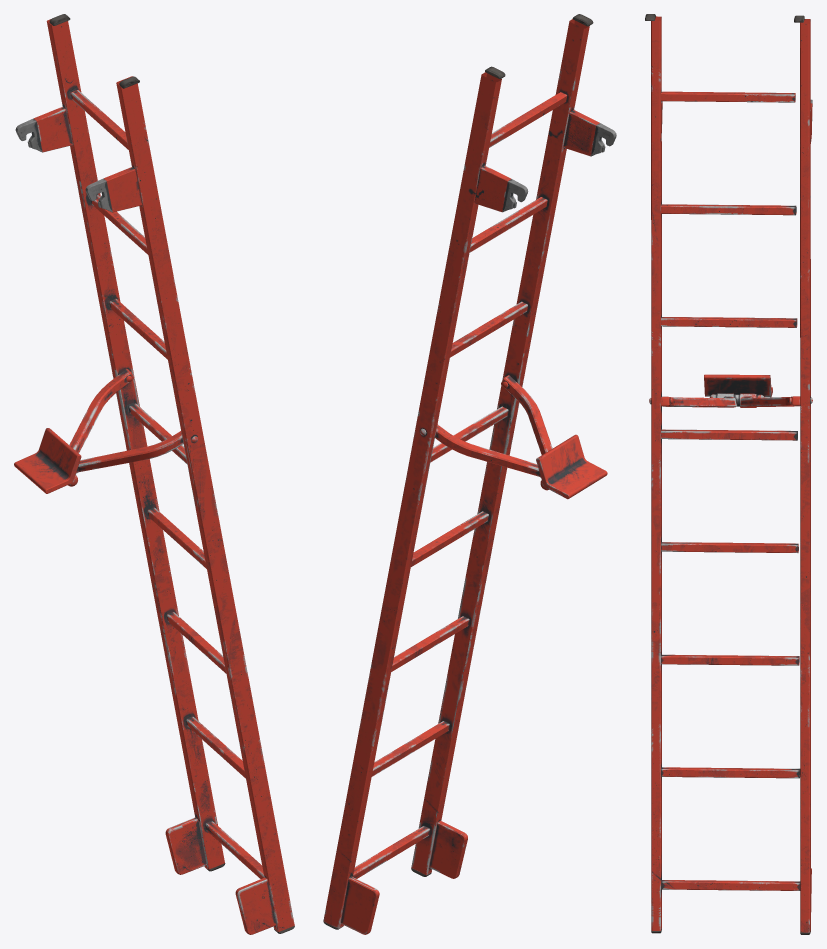
The model's file is xwing-cockpit-ladder.fbx.
3 renders of one model, left to right at view 1: azimuth 30°, elevation 25°; view 2: azimuth 150°, elevation 25°; view 3: azimuth 270°, elevation 25°, orthographic. The views are drawn at different scales.
Parts seen in each view (by area): view 1: beam-main.001_Baked, steps.001_Baked, suport.002_Baked, suport.003_Baked, hook.001_Baked, hand.001_Baked; view 2: beam-main.001_Baked, steps.001_Baked, suport.002_Baked, suport.003_Baked, hook.001_Baked, hand.001_Baked; view 3: beam-main.001_Baked, steps.001_Baked, hook.001_Baked, hand.001_Baked.
Boxes of the visible parts, left/top/right/bottom form: beam-main.001_Baked: left=46, top=19, right=294, bottom=931; steps.001_Baked: left=71, top=90, right=264, bottom=878; suport.002_Baked: left=15, top=107, right=142, bottom=212; suport.003_Baked: left=165, top=817, right=276, bottom=934; hook.001_Baked: left=69, top=369, right=197, bottom=473; hand.001_Baked: left=14, top=428, right=81, bottom=493; beam-main.001_Baked: left=323, top=19, right=589, bottom=928; steps.001_Baked: left=353, top=92, right=566, bottom=878; suport.002_Baked: left=474, top=110, right=616, bottom=212; suport.003_Baked: left=341, top=820, right=467, bottom=934; hook.001_Baked: left=420, top=375, right=552, bottom=477; hand.001_Baked: left=536, top=434, right=607, bottom=499; beam-main.001_Baked: left=651, top=16, right=810, bottom=932; steps.001_Baked: left=661, top=91, right=800, bottom=890; hook.001_Baked: left=649, top=396, right=812, bottom=407; hand.001_Baked: left=704, top=374, right=772, bottom=397.
Size of the model in its own units: 0.5279 by 1.96 by 0.3523.
Materials: 1 (1 with a texture image).
